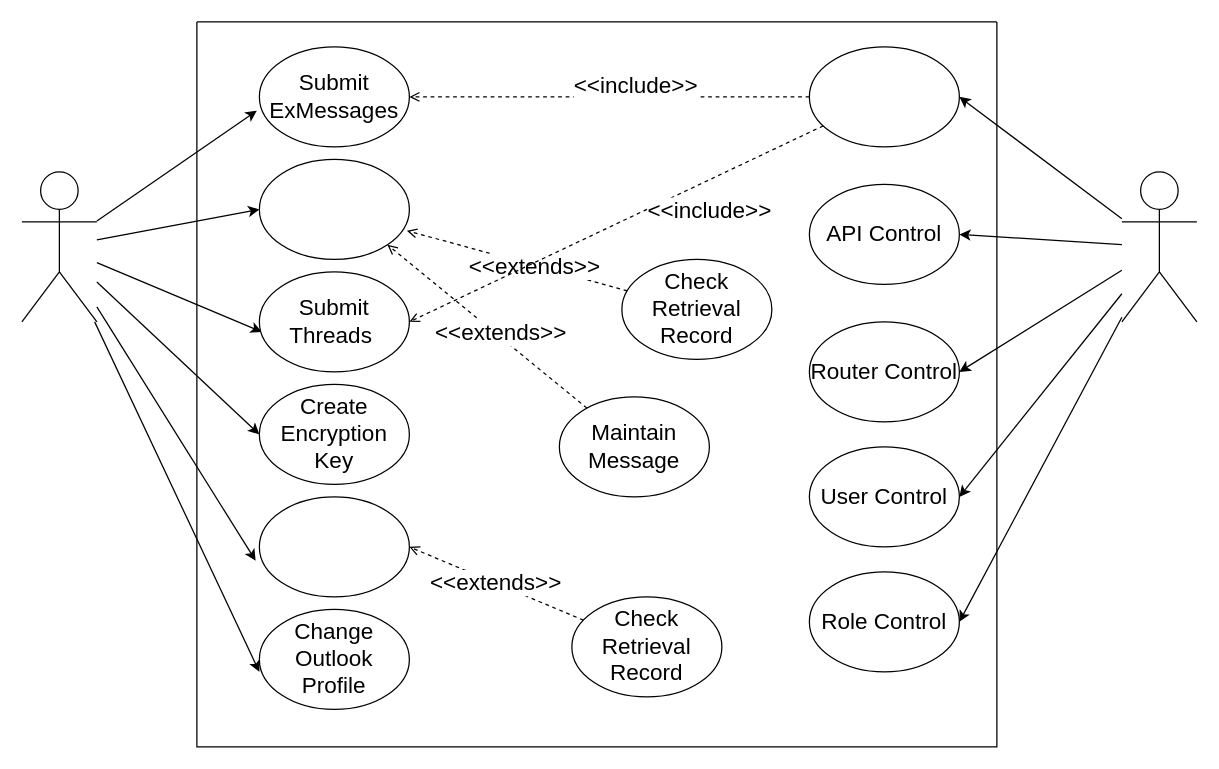
Some shapes in this 1219 by 769 pixel diagram are drawn without their labels. The shapes that lost their labels are listed below. From the top down, each one's centre as x and y in pixels, then its label:
At point (883, 96): "Message Censor".
At point (333, 208): "Retrieve ExMessages".
At point (59, 246): "User".
At point (1159, 246): "Admin".
At point (333, 546): "Retrieve Threads".
